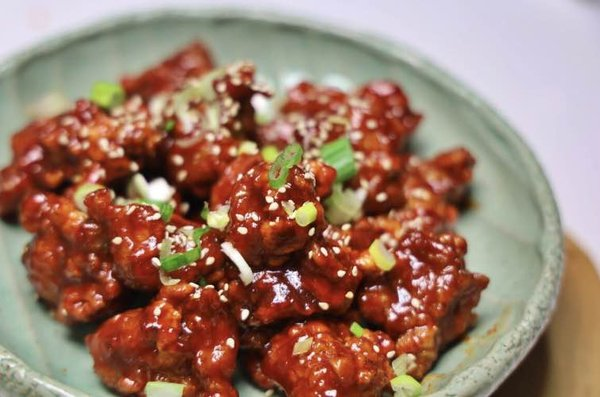sushi: (5, 10, 568, 393)
